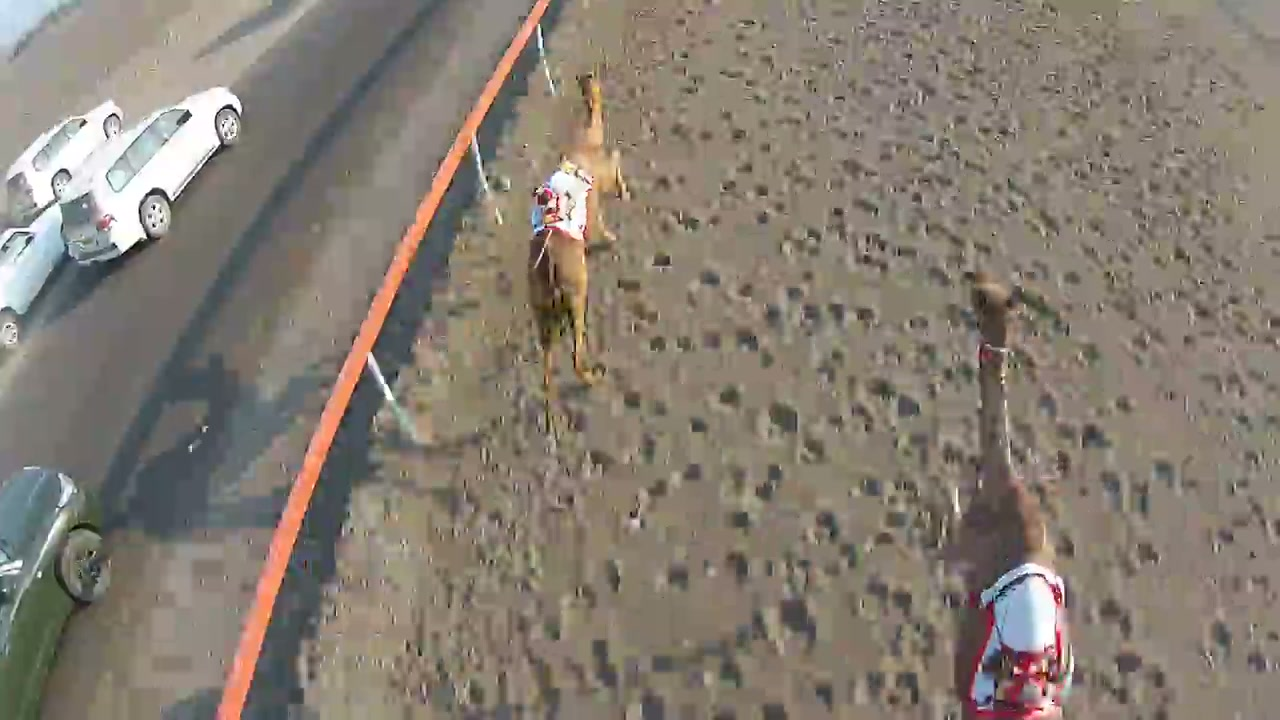animal_footprint: (493, 2, 922, 719), (1032, 60, 1200, 713), (888, 0, 982, 480)
